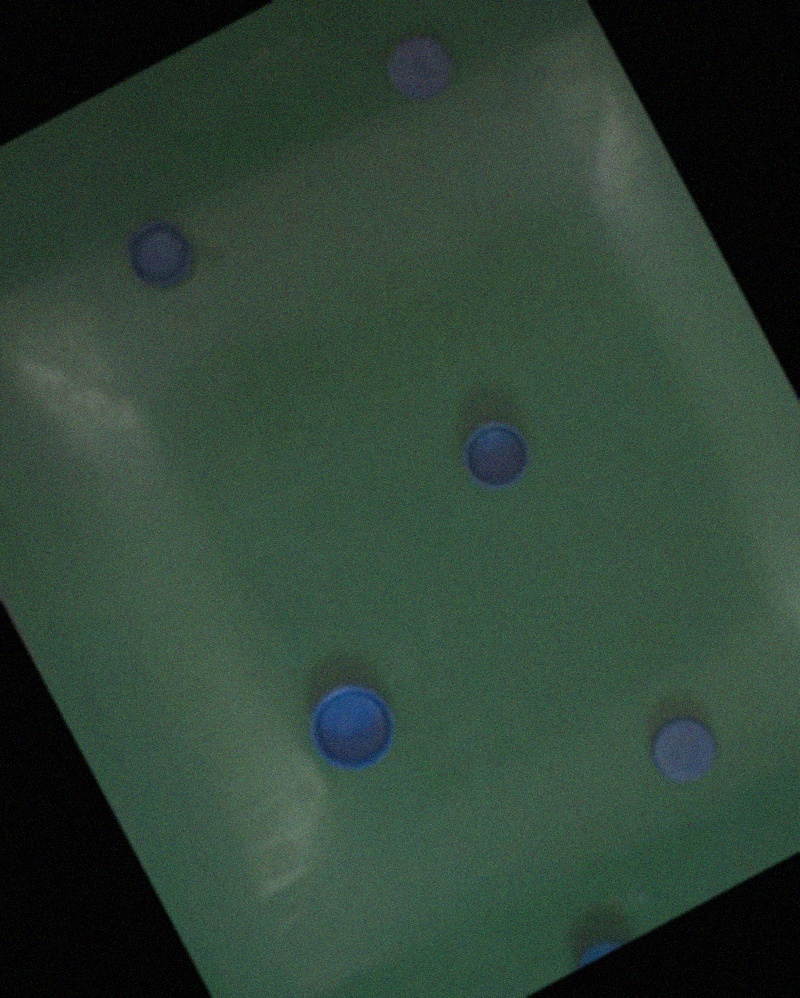Dark Blue: (296, 670, 410, 785), (116, 208, 205, 301), (451, 410, 541, 500), (375, 23, 464, 112), (640, 706, 728, 793)
